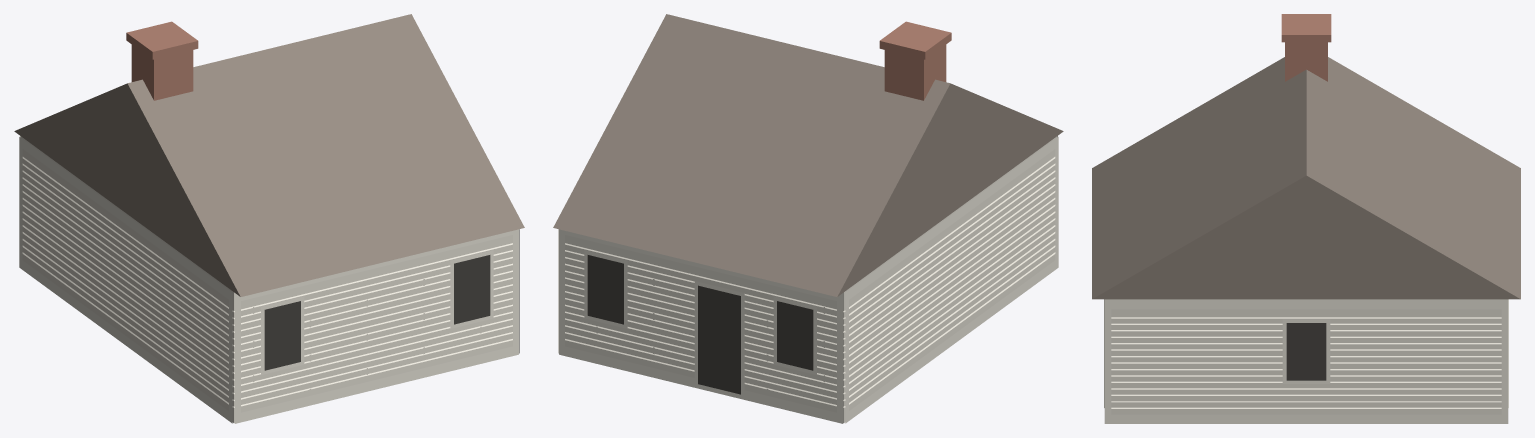
Rendered from recon_1835_west_017__inferred_1835.glb.
3 views of the same model, side by side, from view 1: azimuth 30°, elevation 25°; view 2: azimuth 150°, elevation 25°; view 3: azimuth 270°, elevation 25° (orthographic). The views are drawn at different scales.
Visible parts, largest first — view 1: recon_1835_west_017__inferred_1835; view 2: recon_1835_west_017__inferred_1835; view 3: recon_1835_west_017__inferred_1835.
Part boxes in pixels (<box>): recon_1835_west_017__inferred_1835: <box>14,14,524,423</box>; recon_1835_west_017__inferred_1835: <box>553,14,1063,423</box>; recon_1835_west_017__inferred_1835: <box>1092,14,1520,423</box>.
Size of the model in its own units: 6.18 by 6.15 by 8.43.
